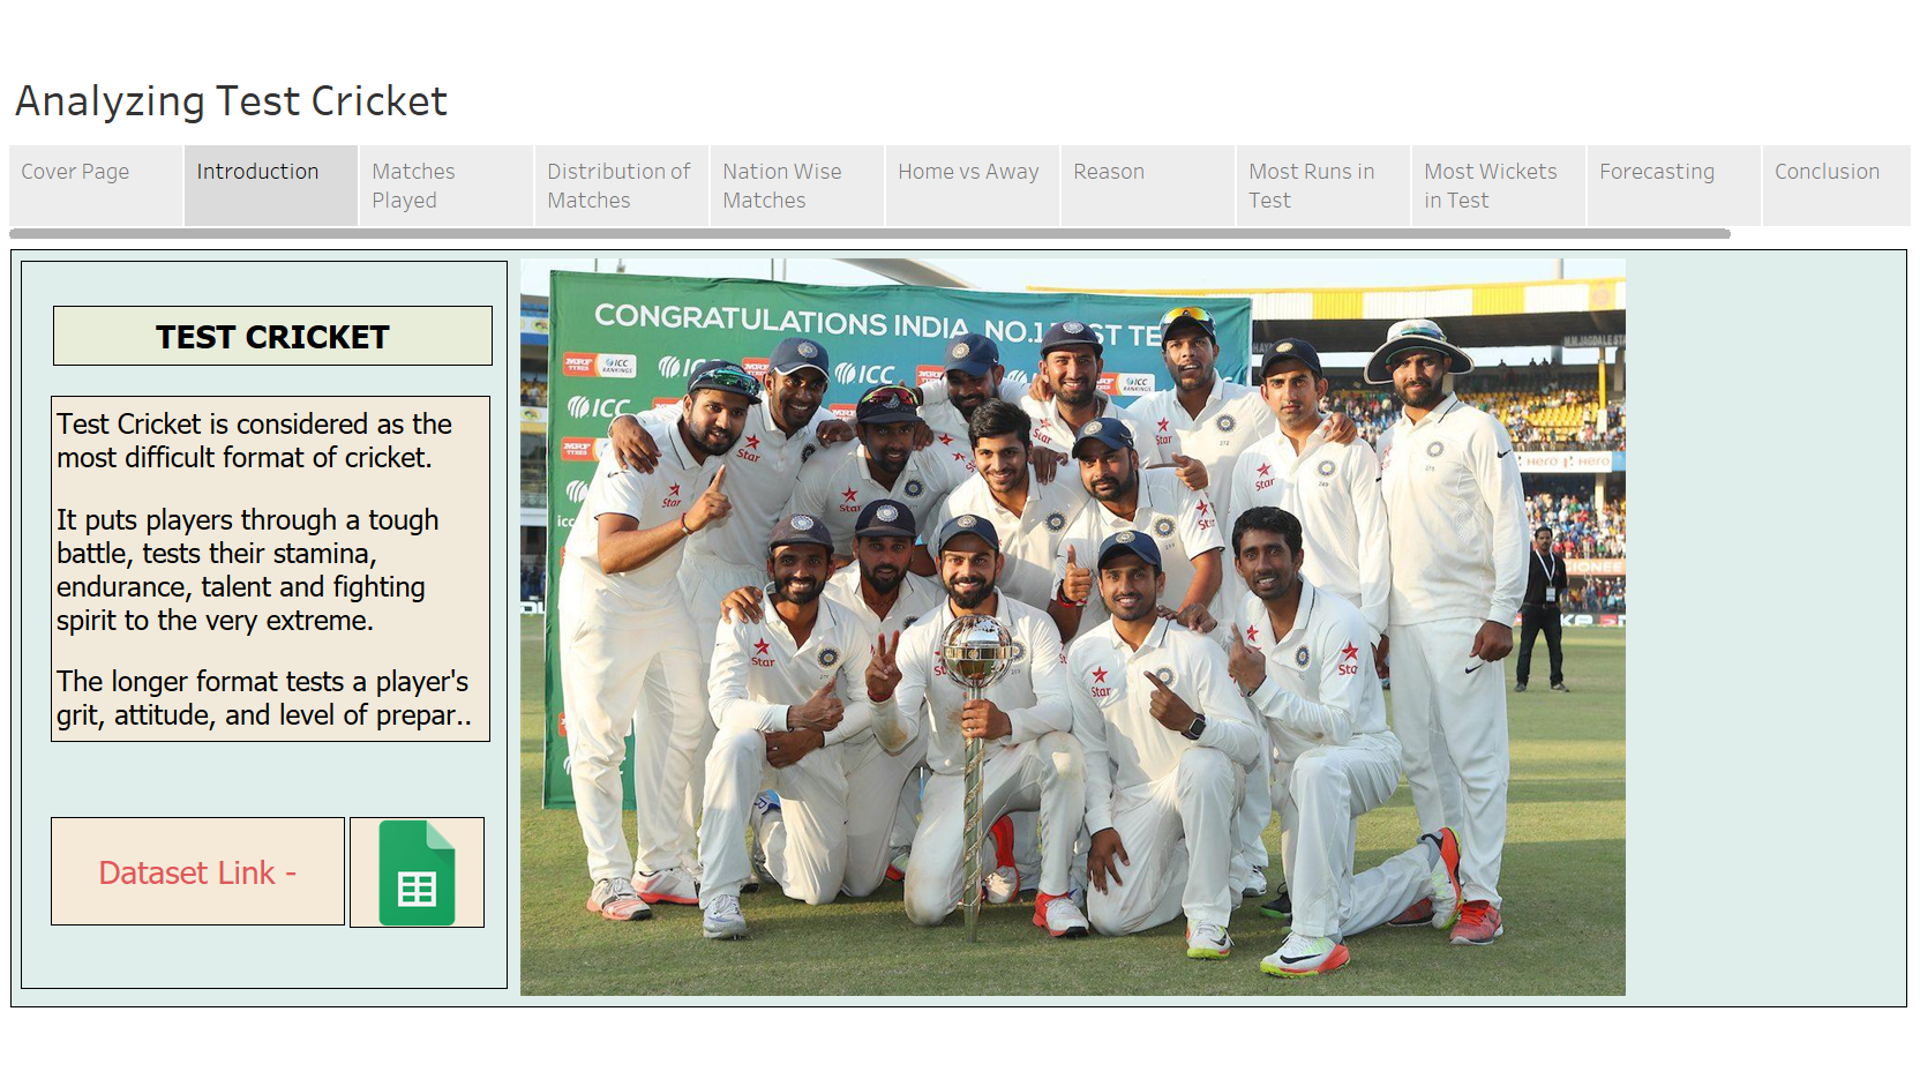

What the dashboard file says about the page in this screenshot:
{"tool":"tableau","page":{"name":"intro","canvas":[1000,1000],"units":"permille","ordinal":10},"visuals":[{"type":"text","box":[0.6,6,997.6,990.4]},{"type":"image","param":"C:/Users/athar/Downloads/Test mace.jpg","box":[268.6,18.1,731.4,963.9]},{"type":"text","box":[22.8,79.5,231.4,78.3]},{"type":"text","box":[21.6,197.6,231.4,453]},{"type":"text","box":[21.6,748.2,155.1,142.2]},{"type":"image","param":"C:/Users/athar/Downloads/Google_Sheets_logo_(2014-2020).svg.png","box":[179.1,748.2,70.9,144.6]},{"type":"text","box":[42.7,804.8,60.1,36.1]}]}

Visuals, with their boxes on the dashboard's canvas, which has no fixed pixel size, in thousandths of its width and height (x1, y1, x2, y2). These are canvas units, not pixel positions in the 1920x1080 screenshot, which may show the page scaled, cropped or inside an application window:
text: bbox=(1, 6, 998, 996)
image: bbox=(269, 18, 1000, 982)
text: bbox=(23, 80, 254, 158)
text: bbox=(22, 198, 253, 651)
text: bbox=(22, 748, 177, 890)
image: bbox=(179, 748, 250, 893)
text: bbox=(43, 805, 103, 841)
